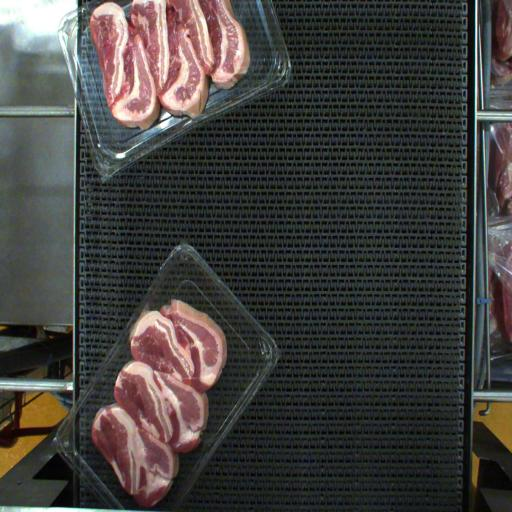packaging-error: (110, 302, 154, 347)
